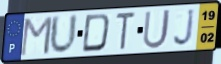D: (80, 12, 112, 54)
J: (172, 8, 196, 49)
M: (18, 15, 54, 58)
T: (115, 11, 137, 52)
U: (48, 13, 80, 56), (141, 8, 172, 51)
